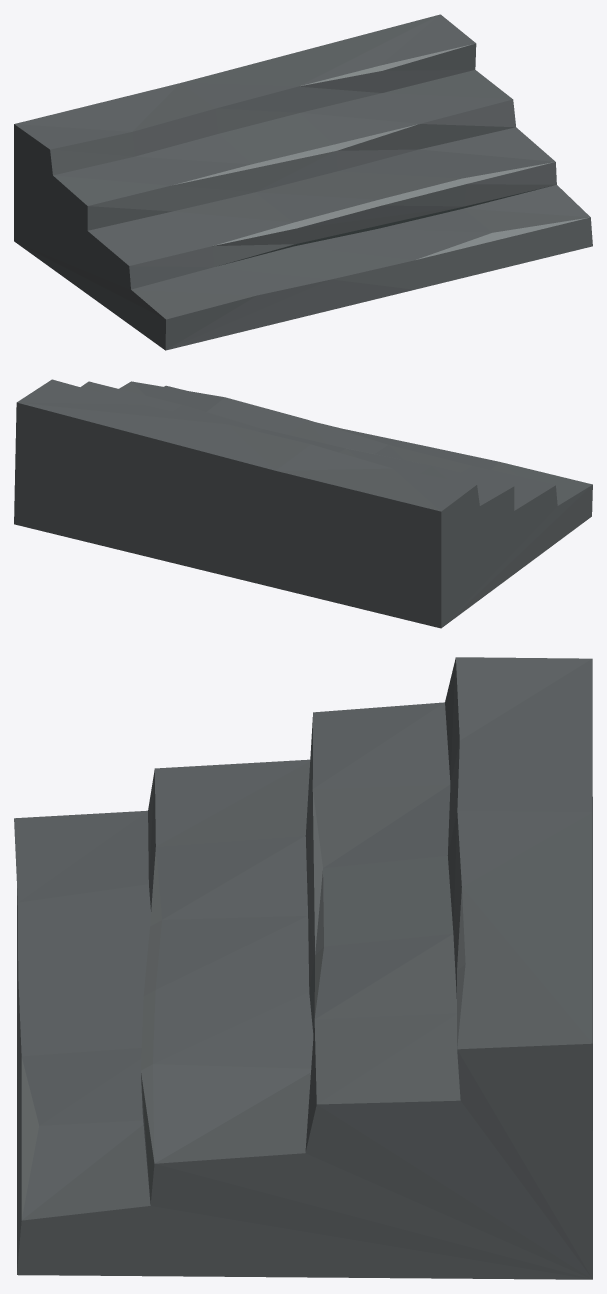
The model's file is MCastle_Steps_01.FBX.
3 views of the same model, one above another, from view 1: azimuth 30°, elevation 25°; view 2: azimuth 150°, elevation 25°; view 3: azimuth 270°, elevation 25° (orthographic). The views are drawn at different scales.
Parts seen in each view (by area): view 1: MCastle_Steps_01_LOD0; view 2: MCastle_Steps_01_LOD0; view 3: MCastle_Steps_01_LOD0.
Part boxes in pixels (x1,y1,x2,y2): MCastle_Steps_01_LOD0: [14, 14, 592, 350]; MCastle_Steps_01_LOD0: [14, 379, 592, 628]; MCastle_Steps_01_LOD0: [14, 657, 592, 1279].
Size of what is drawn, in the model's own units: 2.59 by 0.7072 by 1.59.
